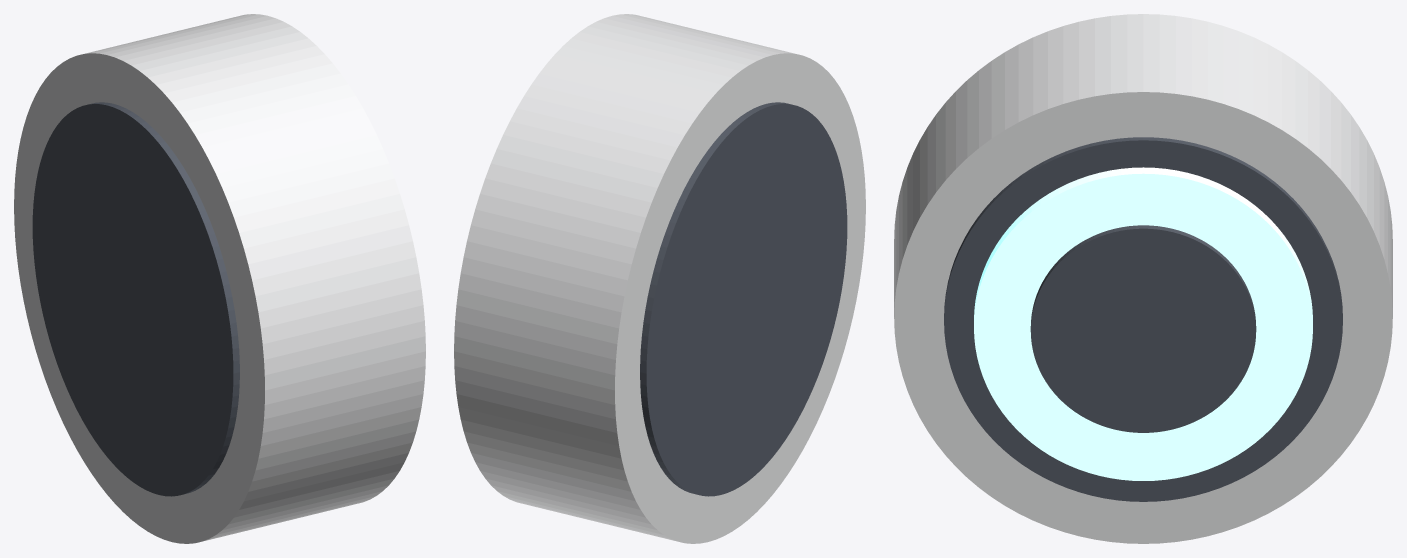
File: pod_right.glb
3 views of the same model, side by side, from view 1: azimuth 30°, elevation 25°; view 2: azimuth 150°, elevation 25°; view 3: azimuth 270°, elevation 25° (orthographic).
Parts seen in each view (by area): view 1: outer_shell, inner_housing; view 2: outer_shell, inner_housing; view 3: outer_shell, blue_ring, dark_center, inner_housing.
Part boxes in pixels (left/top/right/bottom): outer_shell: left=14, top=14, right=425, bottom=543; inner_housing: left=32, top=102, right=239, bottom=496; outer_shell: left=454, top=14, right=865, bottom=543; inner_housing: left=640, top=102, right=847, bottom=496; outer_shell: left=894, top=14, right=1392, bottom=543; blue_ring: left=974, top=167, right=1312, bottom=480; dark_center: left=1030, top=225, right=1256, bottom=432; inner_housing: left=944, top=137, right=1342, bottom=501.
Bounding box in the file's own units: 22.3 × 50 × 50.
